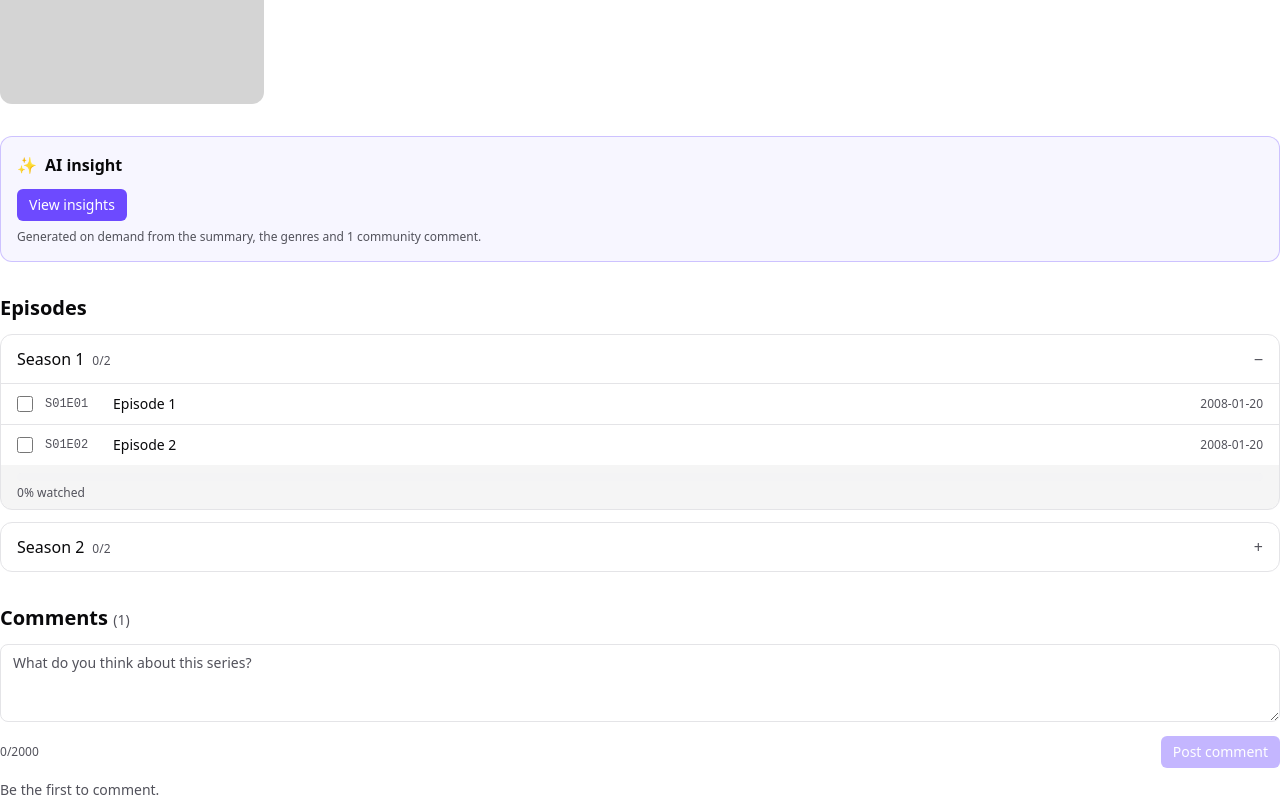
Test: SeriesPage › posts a new comment and shows it at once
The width and height of the screenshot is (1280, 800).
(page scrolled)
Type "New thought" into the text box named "your comment" at [640, 683], box [0, 644, 1279, 722]
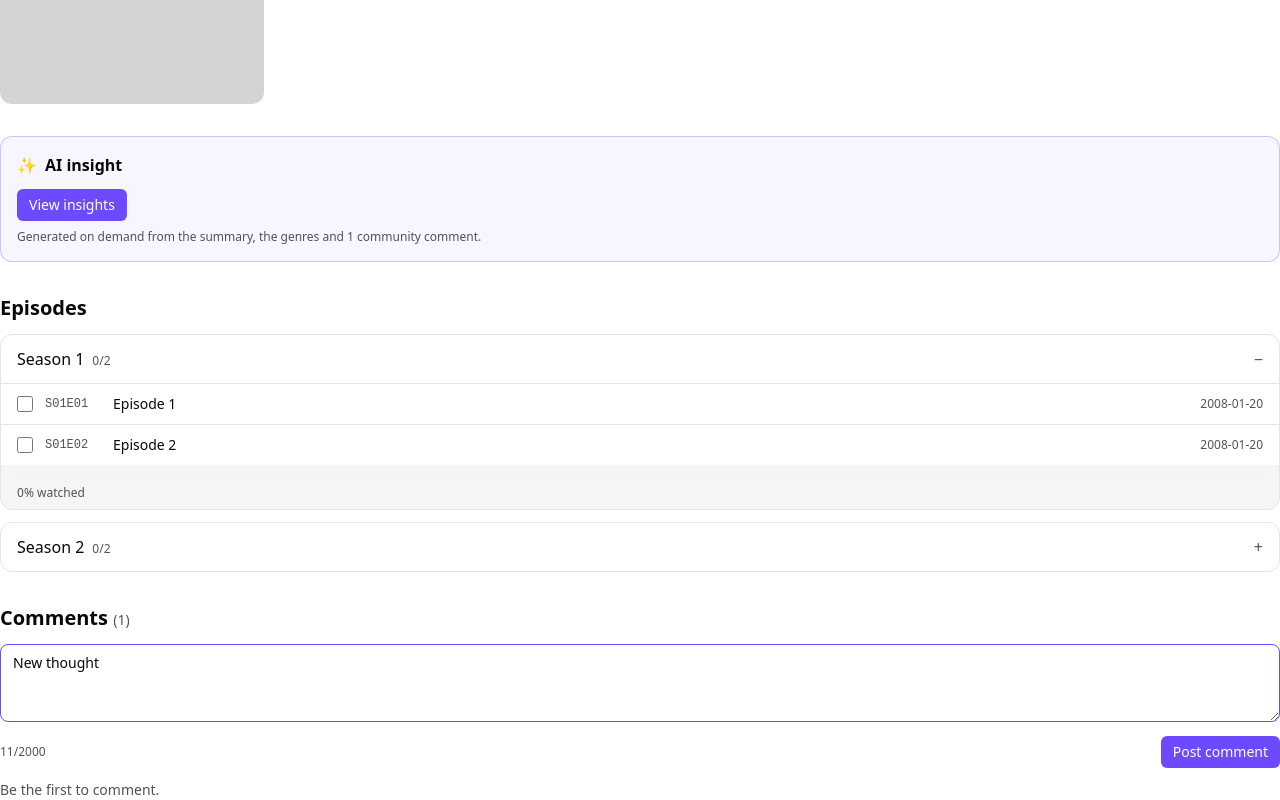
Click the button "Post comment" at [1220, 752], box [1161, 736, 1279, 768]
(page scrolled)
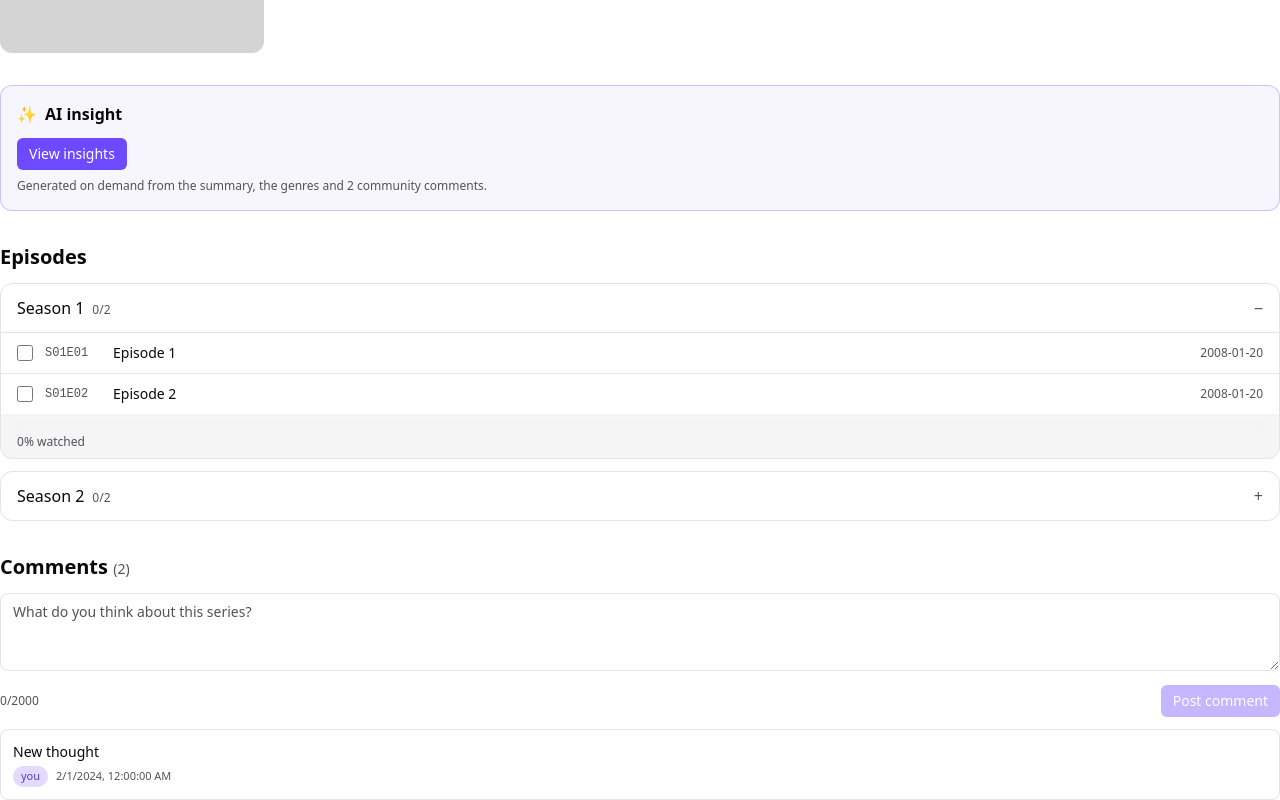
Expected: the text "New thought" is shown, [13, 742, 99, 761]
